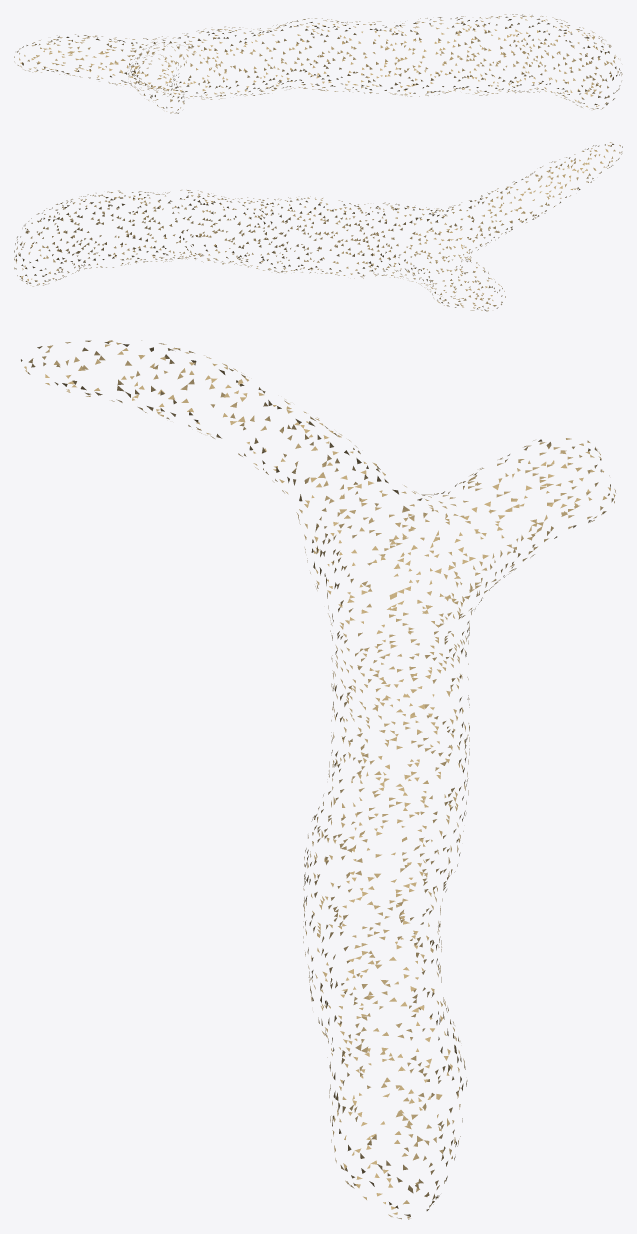
File: morph_007.glb
3 renders of one model, top to bottom at view 1: azimuth 30°, elevation 25°; view 2: azimuth 150°, elevation 25°; view 3: azimuth 270°, elevation 25°, orthographic. The views are drawn at different scales.
Size of the model in its own units: 127 by 46.24 by 62.3.
